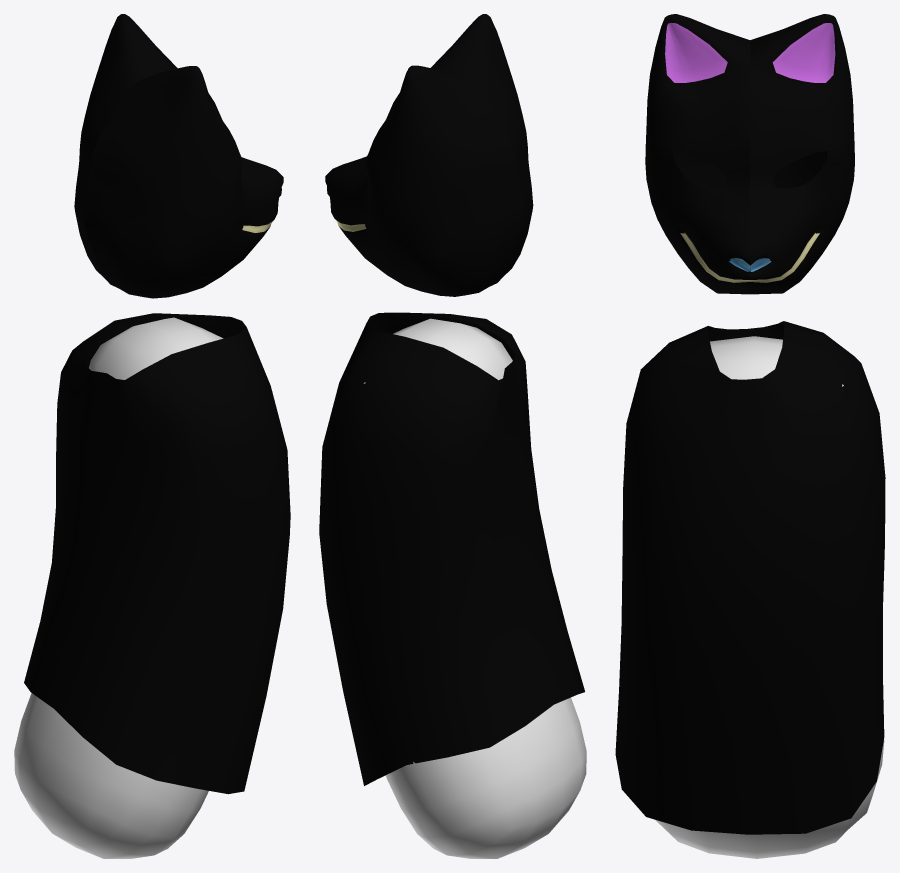
Rendered from NPC 15.fbx.
3 views of the same model, side by side, from view 1: azimuth 30°, elevation 25°; view 2: azimuth 150°, elevation 25°; view 3: azimuth 270°, elevation 25° (orthographic). The views are drawn at different scales.
Visible parts, largest first — view 1: T-shirt.016, Mask.015, body.016; view 2: T-shirt.016, Mask.015, body.016; view 3: T-shirt.016, Mask.015, body.016.
Boxes of the visible parts, x1,y1,x2,y2 form: T-shirt.016: (24, 313, 290, 794); Mask.015: (74, 14, 283, 298); body.016: (14, 317, 223, 858); T-shirt.016: (319, 312, 584, 785); Mask.015: (325, 14, 533, 296); body.016: (363, 318, 586, 858); T-shirt.016: (615, 321, 885, 834); Mask.015: (645, 14, 854, 294); body.016: (655, 336, 884, 858).
Size of the model in its own units: 2.38 by 7.48 by 2.12.
